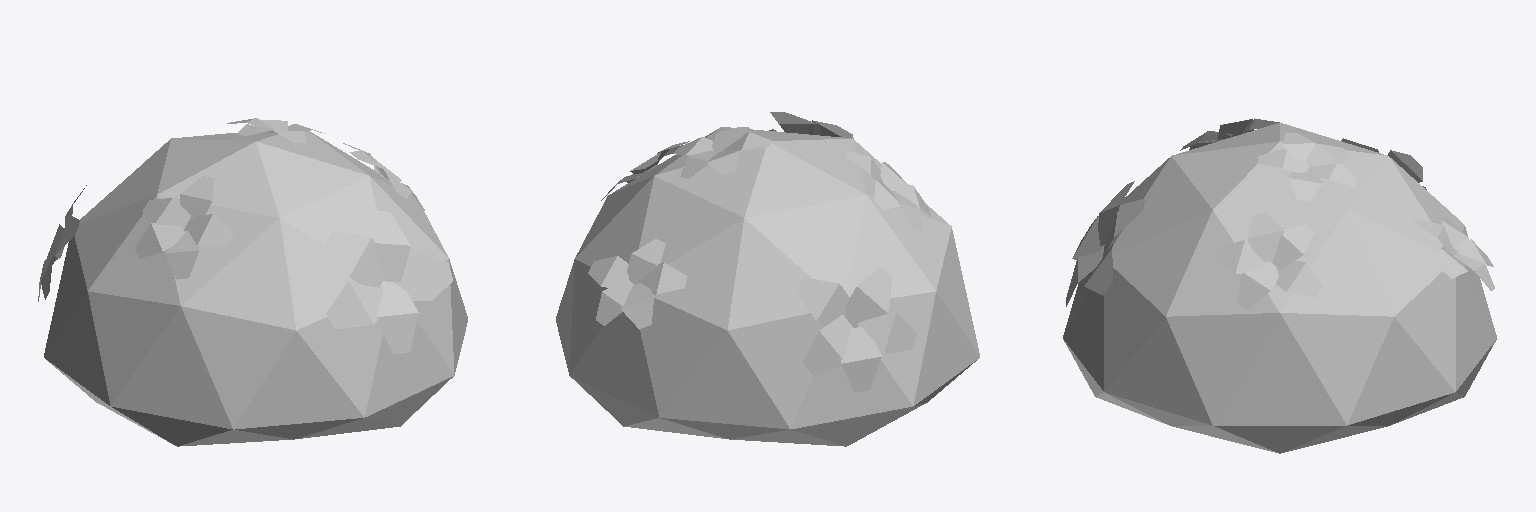
Rendered from big_flower1.obj.
The picture shows the model from 3 angles: view 1: azimuth 30°, elevation 25°; view 2: azimuth 150°, elevation 25°; view 3: azimuth 270°, elevation 25°; orthographic projection.
Bounding box in the file's own units: 8.46 × 5.45 × 8.9.